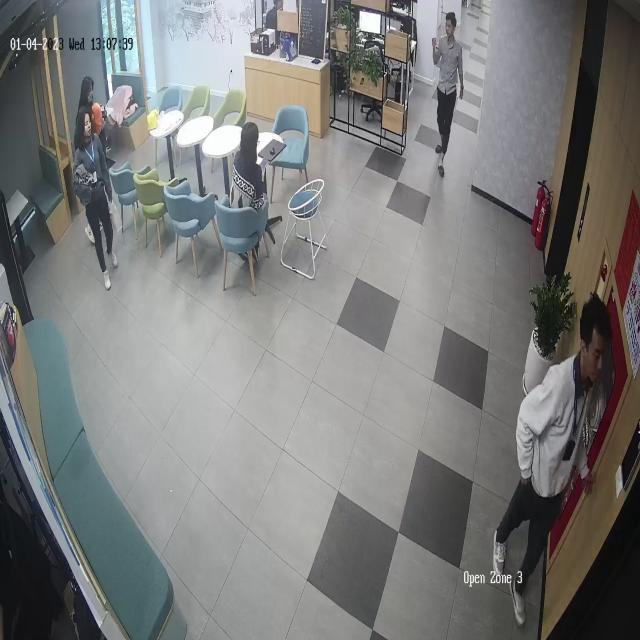person: (491, 295, 615, 636), (102, 131, 148, 315), (229, 121, 274, 258), (431, 12, 464, 179), (79, 75, 96, 111)
